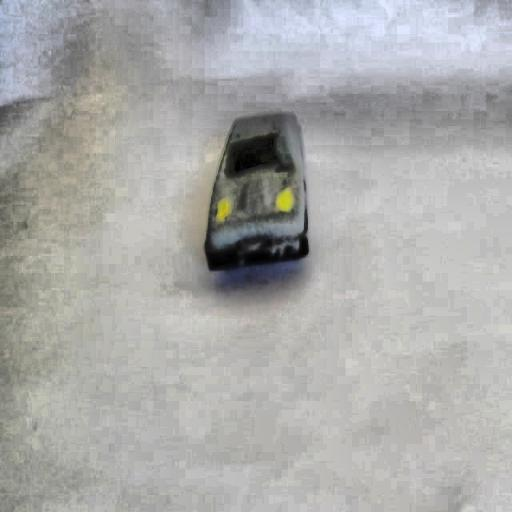normal_car: (202, 110, 312, 273)
